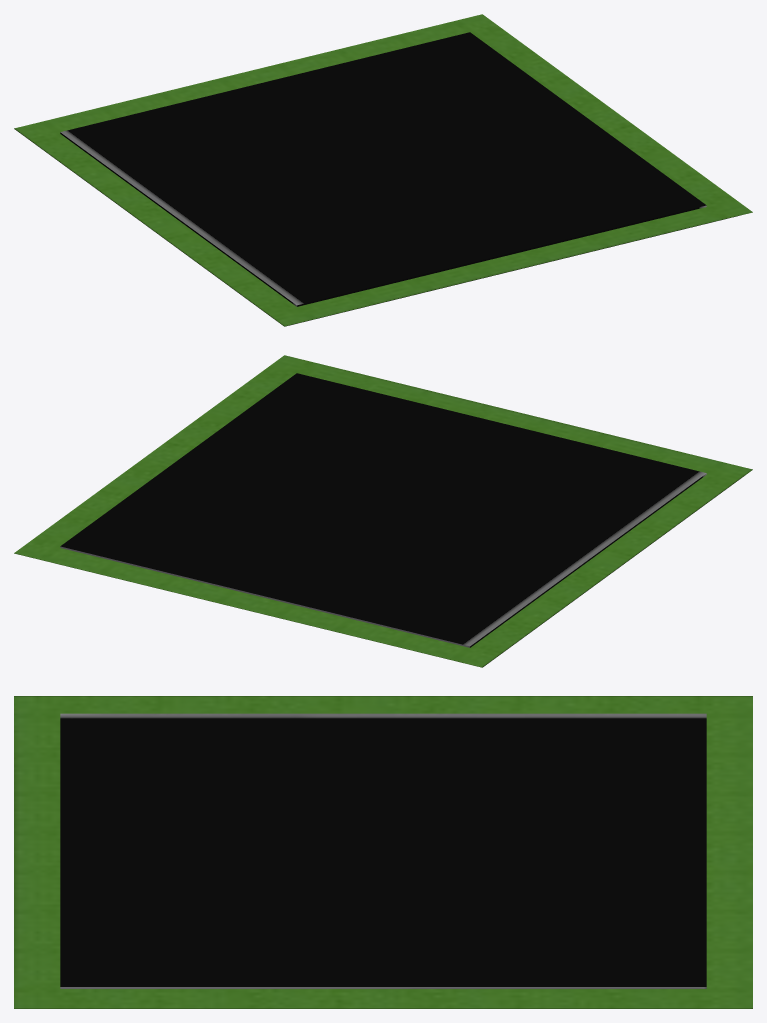
File: empty_zone.FBX
The picture shows the model from 3 angles, top to bottom: view 1: azimuth 30°, elevation 25°; view 2: azimuth 150°, elevation 25°; view 3: azimuth 270°, elevation 25°; orthographic projection. The views are drawn at different scales.
Visible parts, largest first — view 1: Box003, Box002; view 2: Box003, Box002; view 3: Box003, Box002.
Boxes of the visible parts, left/top/right/bottom form: Box003: left=60, top=32, right=706, bottom=306; Box002: left=14, top=14, right=752, bottom=326; Box003: left=60, top=373, right=706, bottom=647; Box002: left=14, top=355, right=752, bottom=667; Box003: left=60, top=713, right=706, bottom=988; Box002: left=14, top=696, right=752, bottom=1008.
Size of the model in its own units: 800 by 3 by 800.
2 materials, 2 textured.
